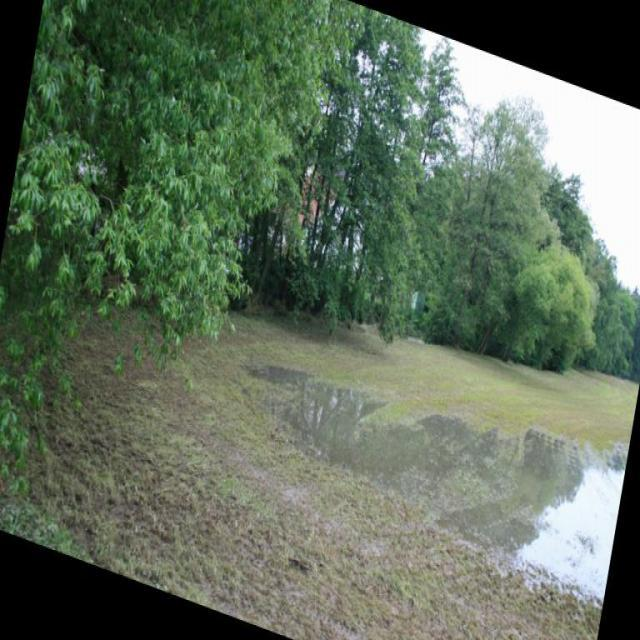flood: (227, 312, 628, 616)
